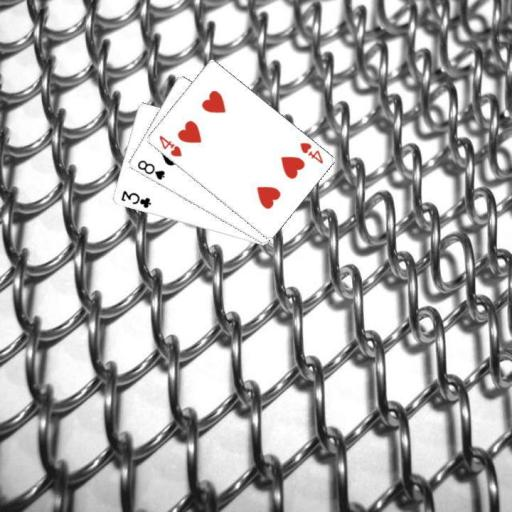card-corner: (134, 157, 166, 181), (155, 132, 183, 159), (118, 188, 152, 210), (297, 139, 324, 165)
